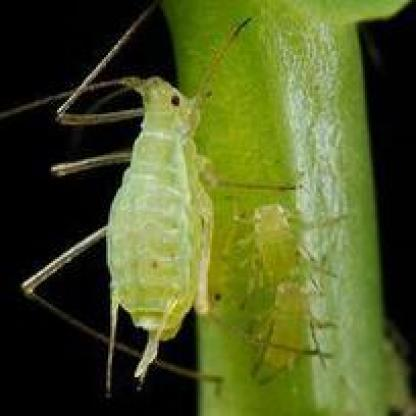aphid: (25, 10, 232, 381), (238, 267, 330, 375), (239, 196, 318, 291)
